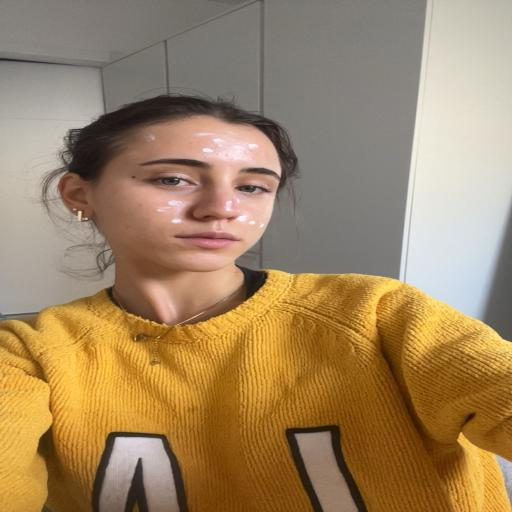masa: (134, 117, 276, 282)
